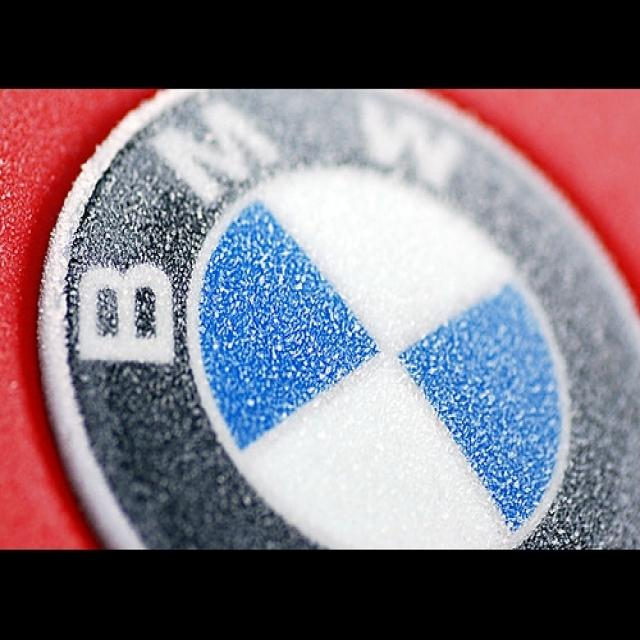bmw: (16, 74, 640, 595)
